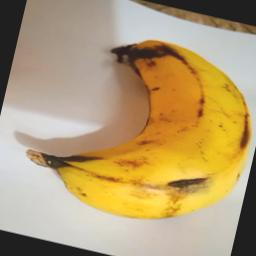Banana Unripe: (17, 16, 256, 242)
